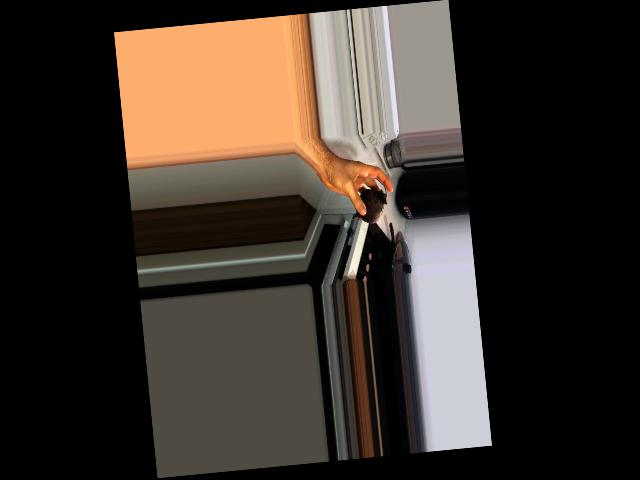beet: (347, 178, 388, 225)
